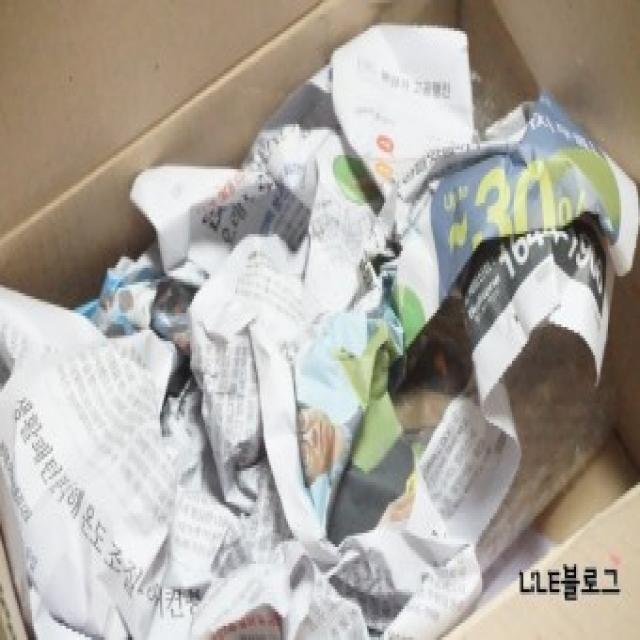Newspaper: (0, 22, 639, 640)
